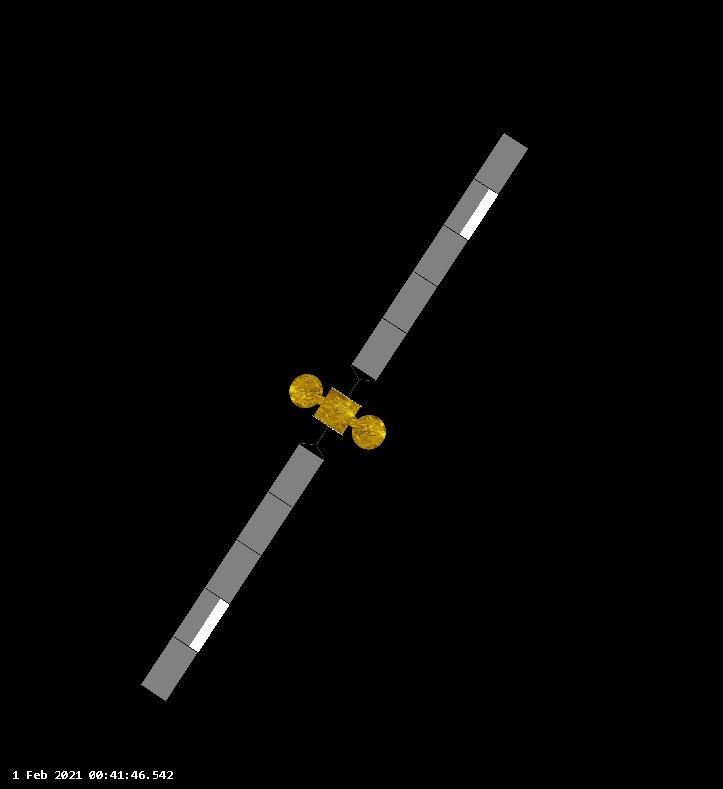antenna: (287, 371, 327, 412), (350, 413, 388, 451)
body: (309, 384, 365, 438)
solar: (139, 441, 326, 703), (349, 130, 531, 383)
